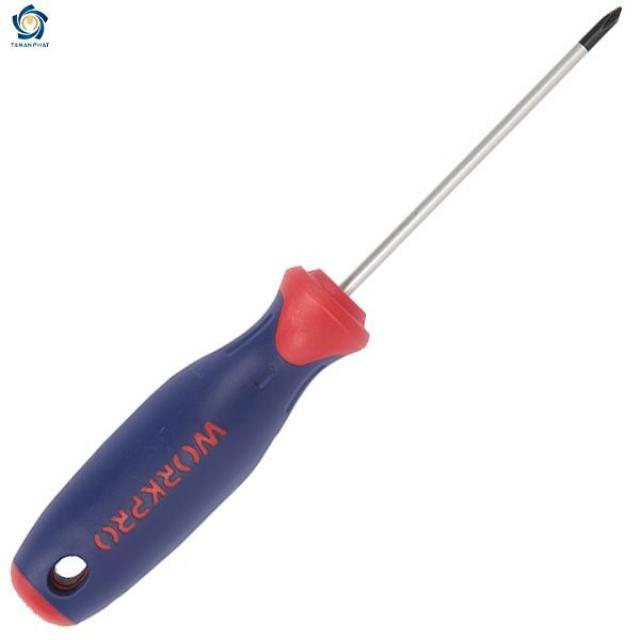screwdriver: (9, 6, 627, 629)
